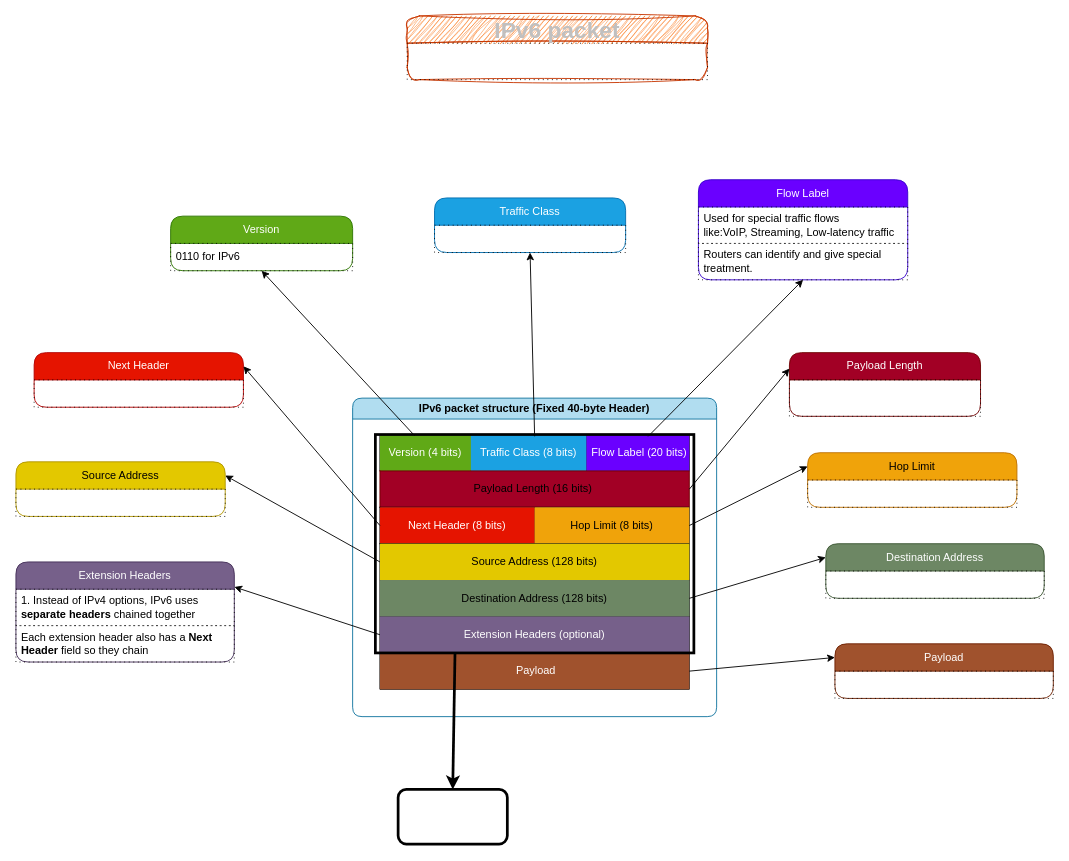
This 1069x861 diagram has some shape labels left out. The centre of each missing label's shape, as x and y in pixels:
"1. IPv6 packet are 40 bytes fixed" belongs at point 557,61.
"Equivalent to IPv4 “Protocol” field" belongs at point 138,393.
"IPv6 address of receiver" belongs at point 934,584.
"IPv6 address of sender." belongs at point 120,502.
"IPv6 packet header (fixed 40 bytes)" belongs at point 452,816.
"Same as IPv4" belongs at point 943,684.
"Same as IPv4 TTL." belongs at point 912,493.
"Size of everything after the IPv6 header" belongs at point 885,397.
"Used for QoS." belongs at point 530,238.
